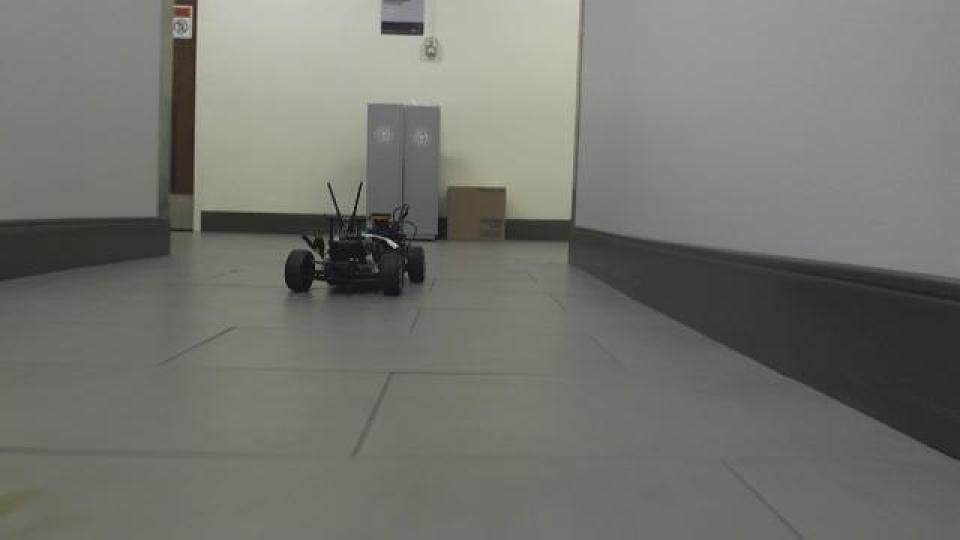car: (281, 178, 429, 298)
